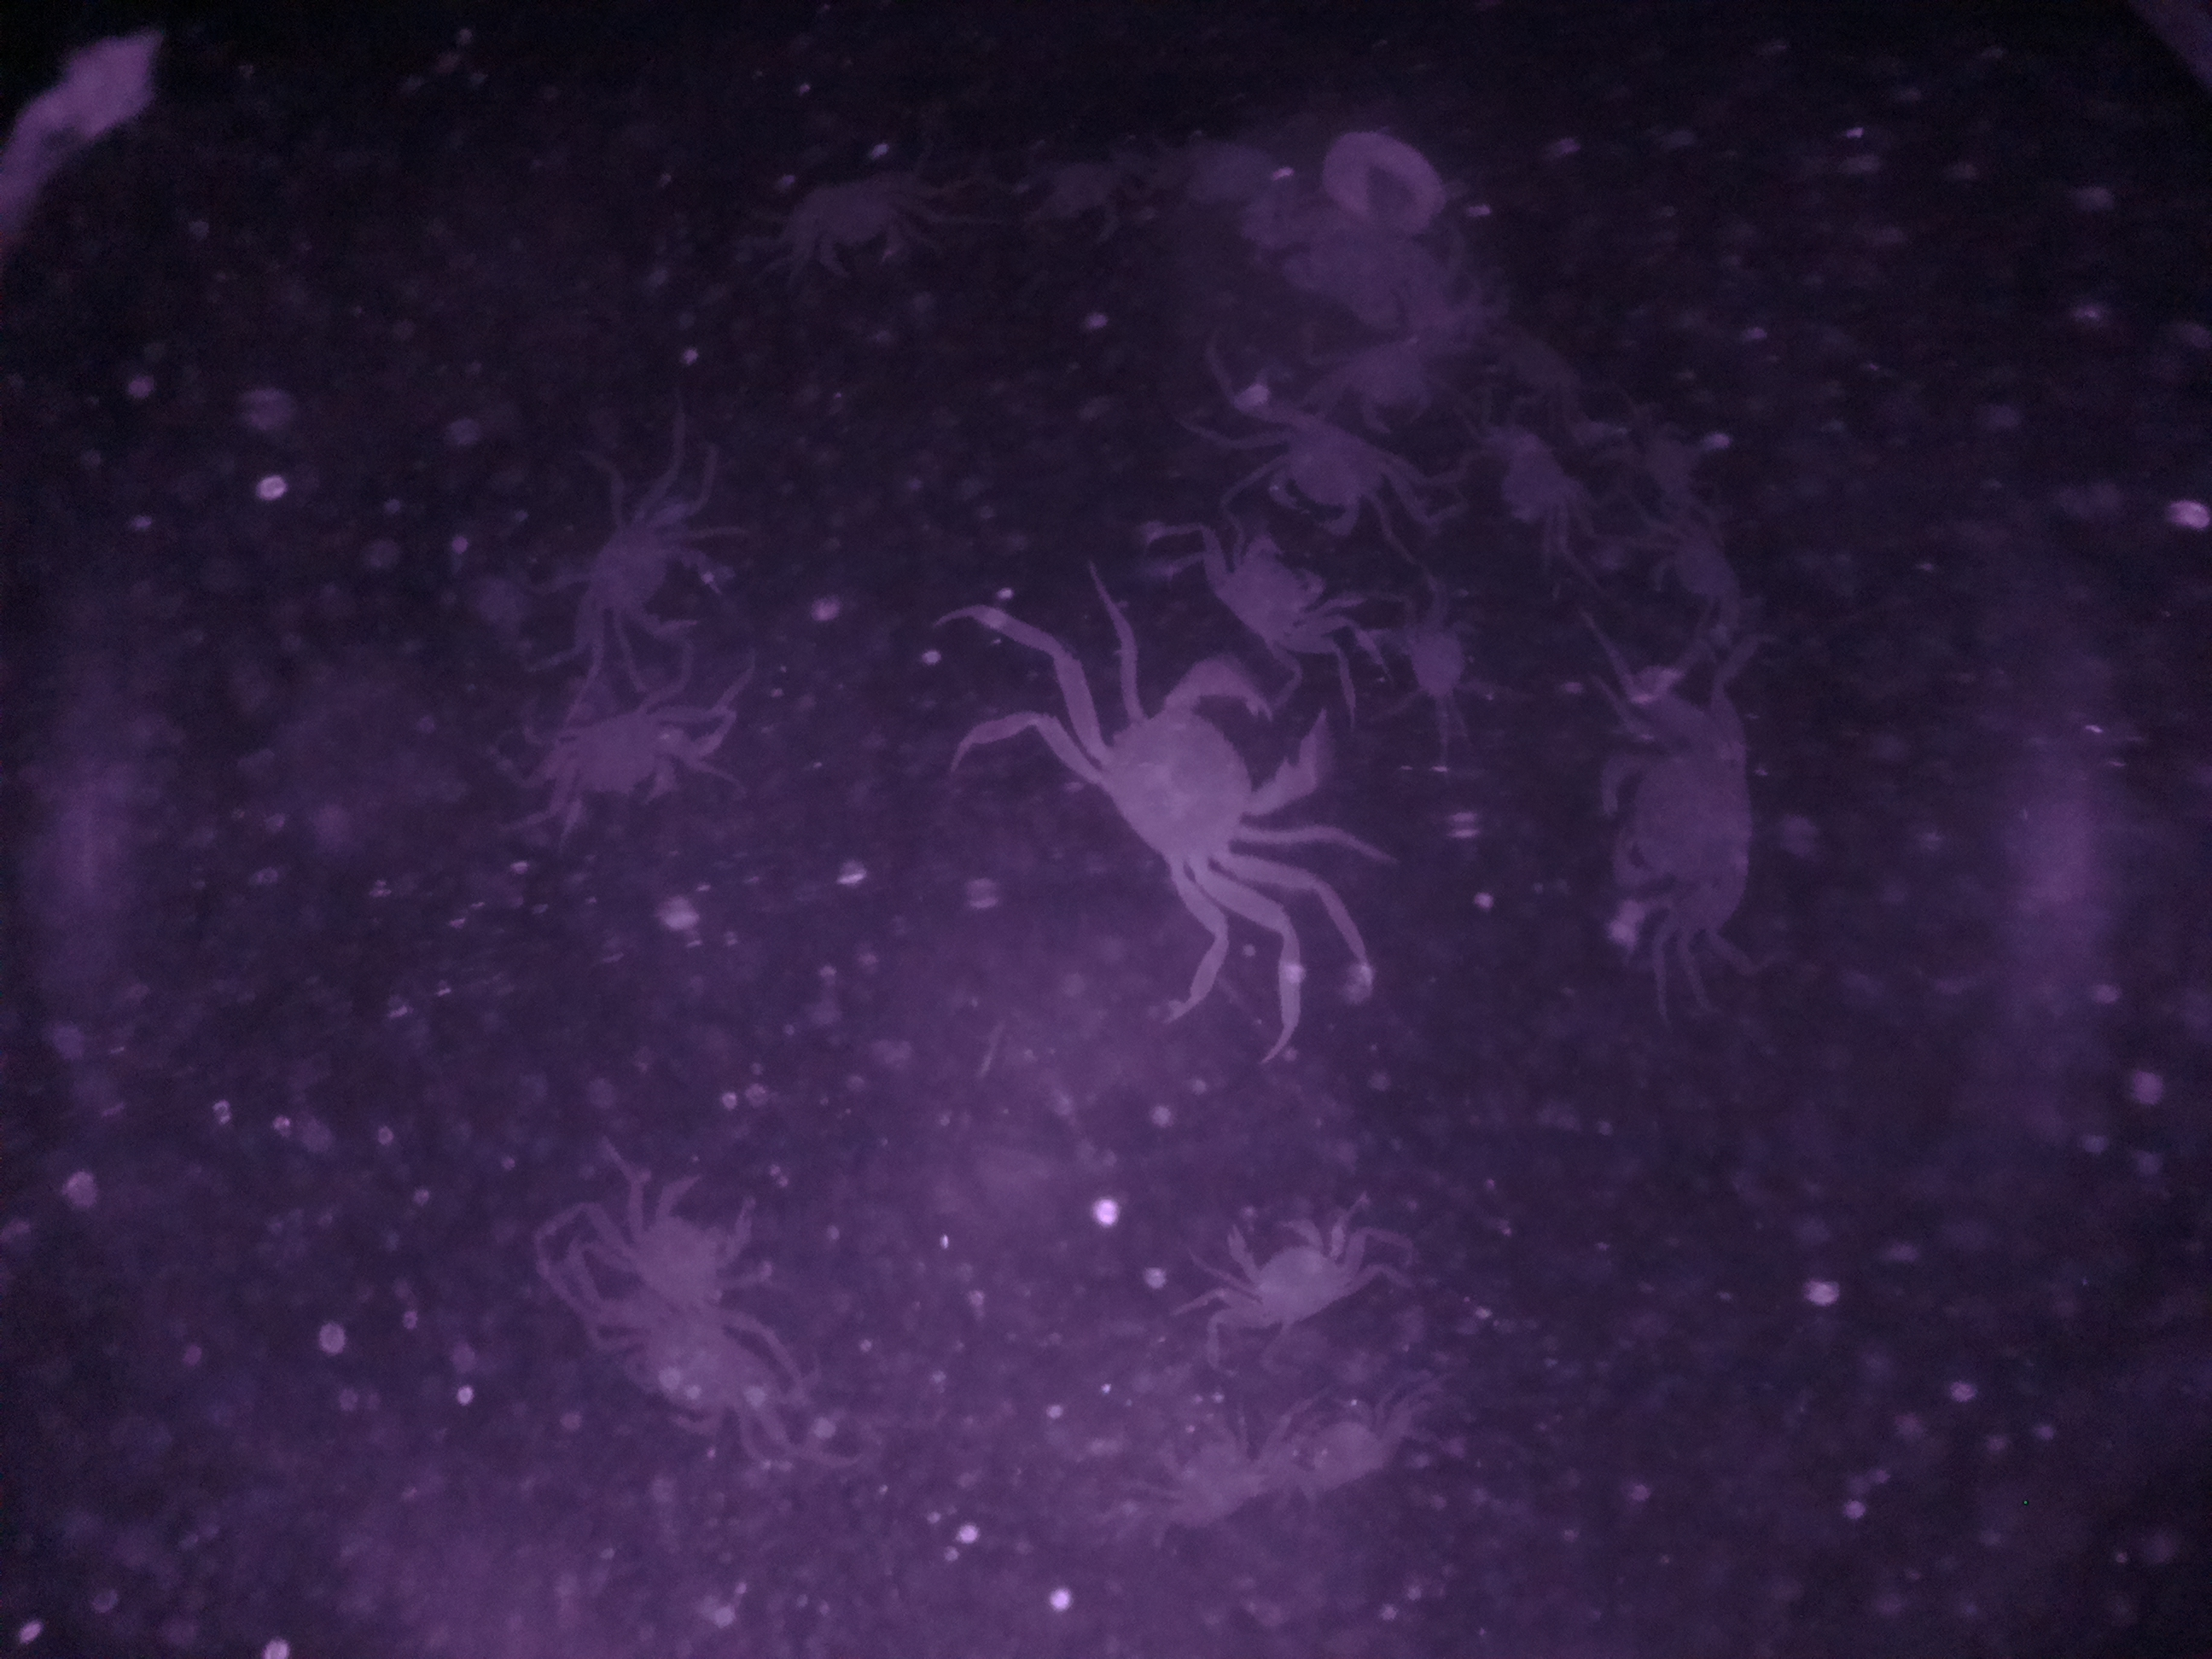Crab: (1038, 671, 1343, 929), (1576, 706, 1803, 951), (1186, 1190, 1390, 1347), (554, 502, 740, 669), (1176, 518, 1359, 660), (777, 157, 942, 291)
